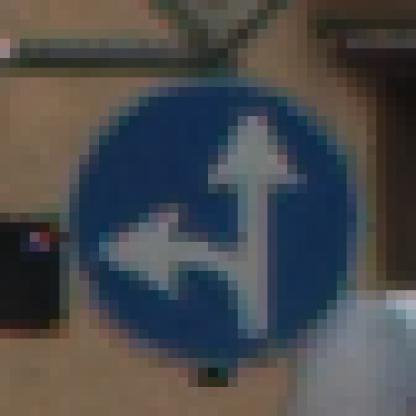Straight or Left: (51, 49, 368, 369)
